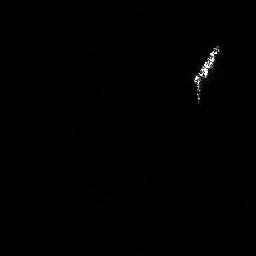ship: (189, 41, 224, 105)
